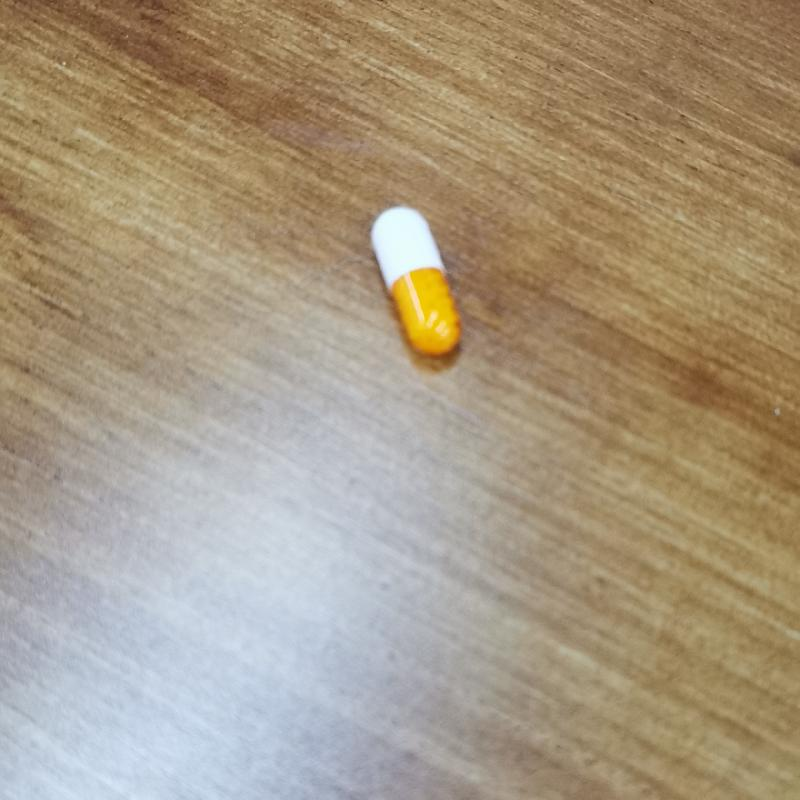pills: (349, 196, 478, 370)
